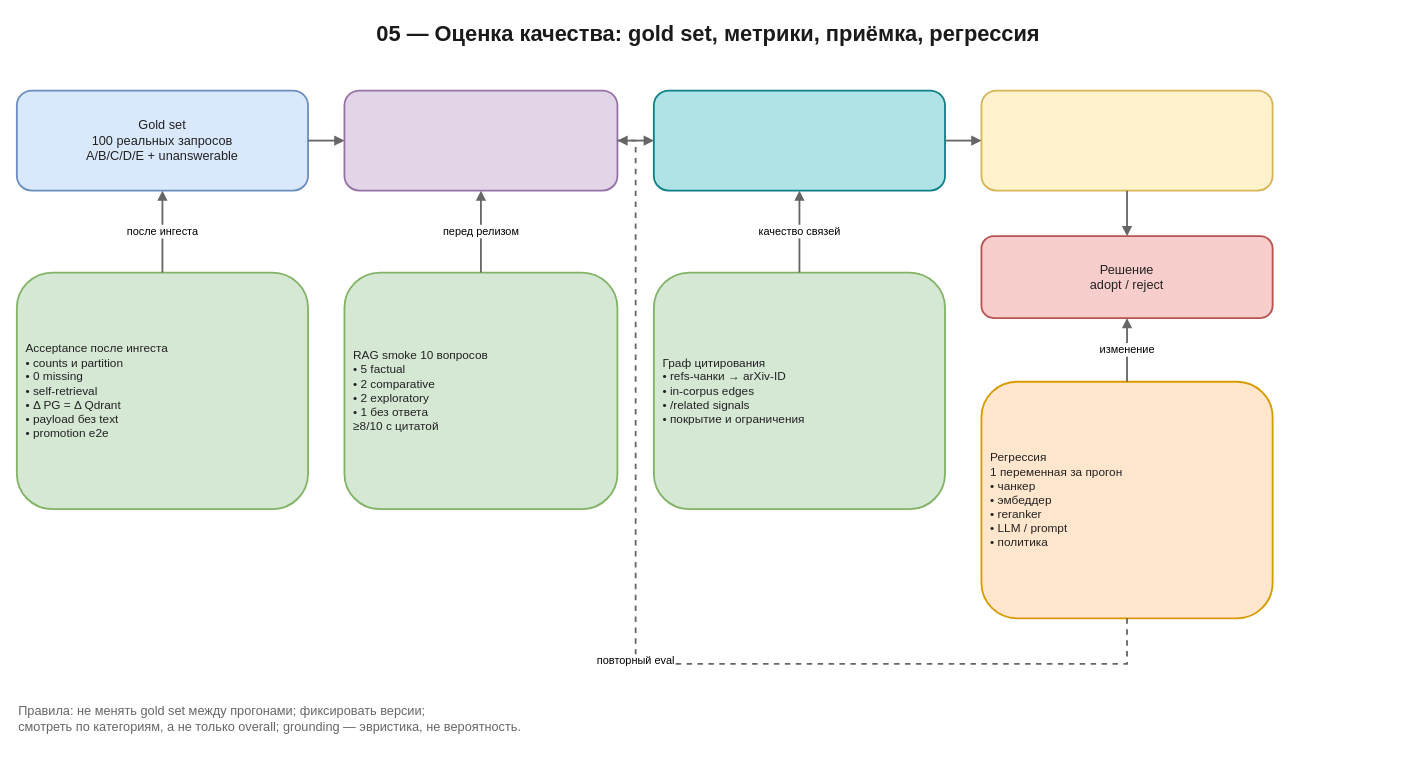
This 1415x761 diagram has some shape labels left out. The centre of each missing label's shape, as x and y in pixels:
"Метрики recall@10 · nDCG@10 bootstrap CI" goes at point 798,140.
"Прогон режимов dense · hybrid · rerank" goes at point 480,140.
"Сравнение с baseline по категориям" goes at point 1126,140.
